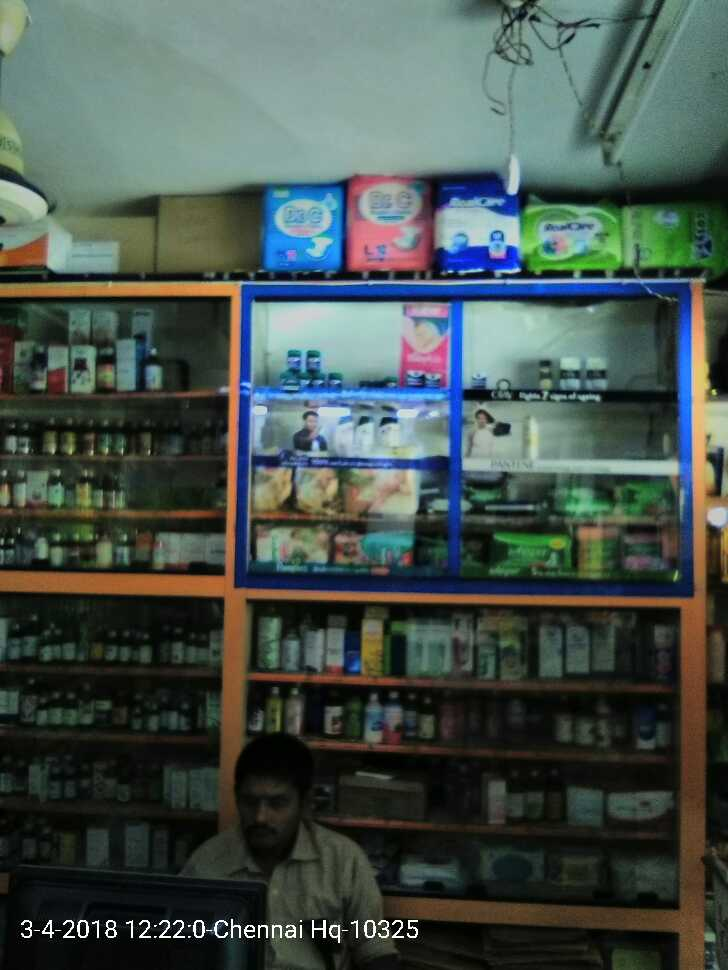vicks: (281, 348, 345, 391), (407, 370, 439, 388)
